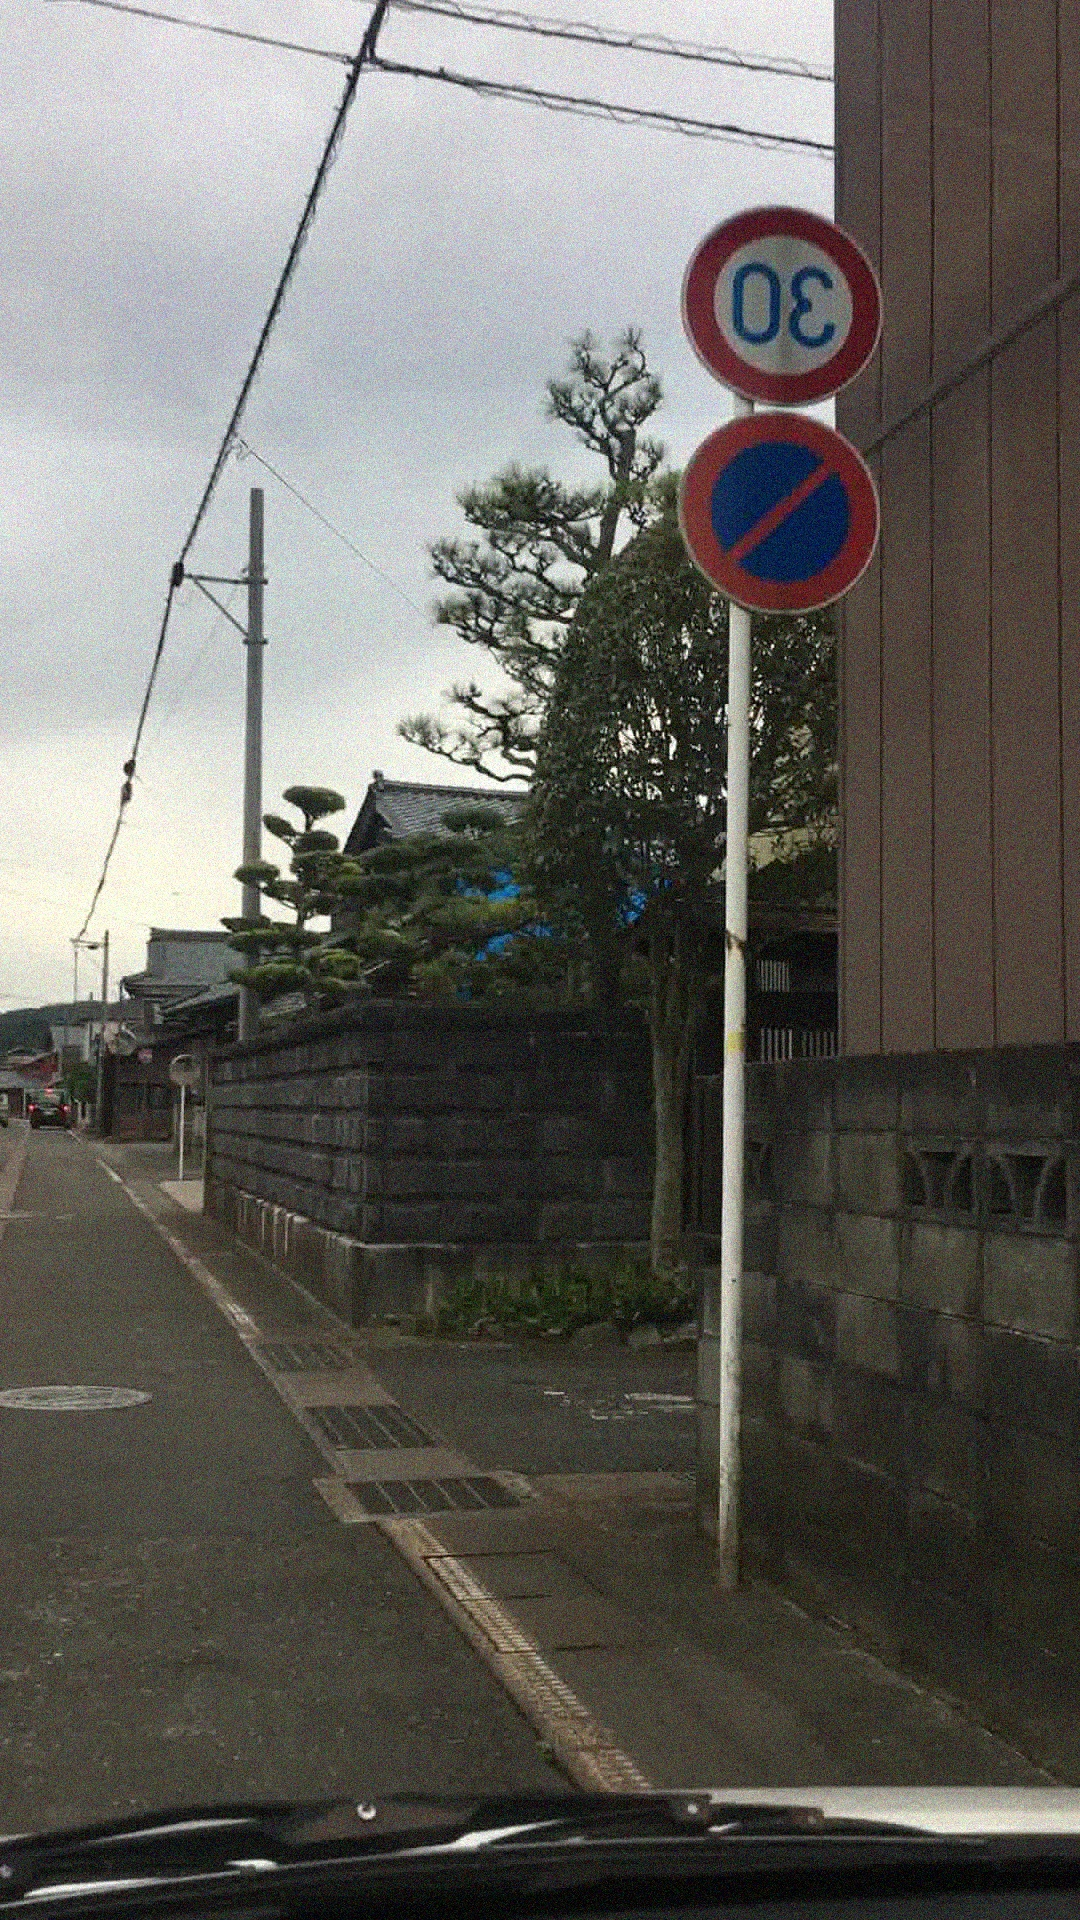Prohibition_sign: (662, 415, 914, 651)
Speed_sign: (676, 194, 902, 415)
